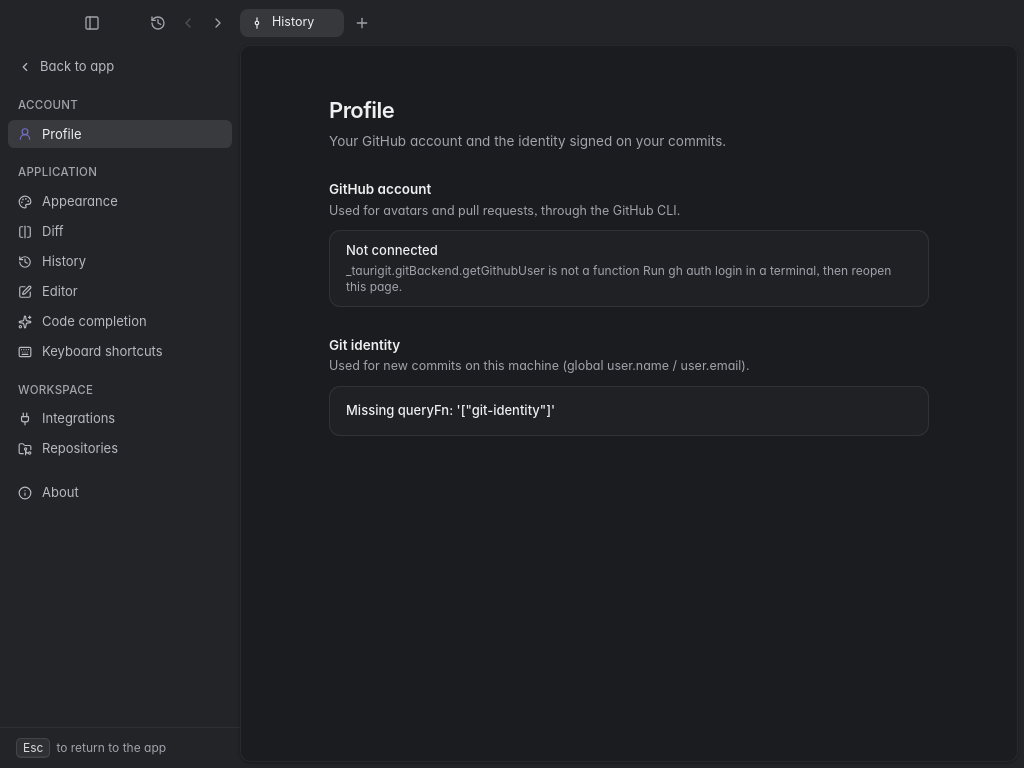
it: settings › shows the page picked in the sidebar
Click the button "Keyboard shortcuts".
click(120, 352)  # box top-left (8, 338), bottom-right (232, 366)
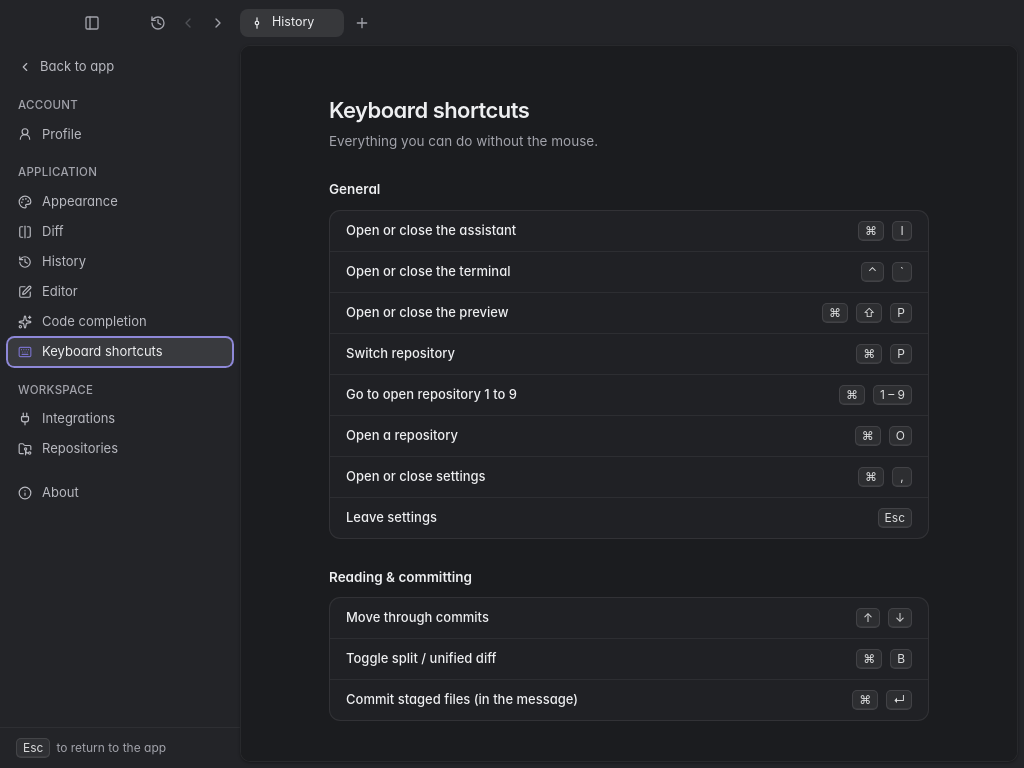
Expected: the heading "Keyboard shortcuts" is shown, top-left (329, 97), bottom-right (529, 123)
